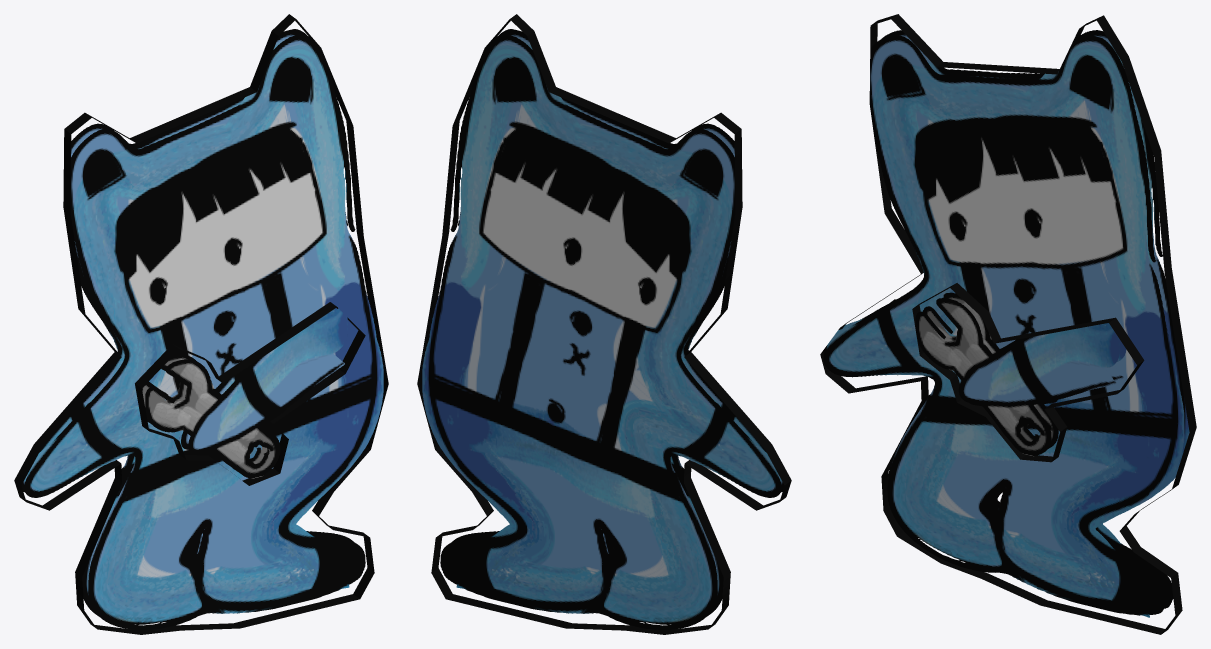
File: PlayerFixing.fbx
3 renders of one model, left to right at view 1: azimuth 30°, elevation 25°; view 2: azimuth 150°, elevation 25°; view 3: azimuth 330°, elevation 25°, orthographic.
Visible parts, largest first — view 1: PlayerFixingBody_MDL, PlayerFixingHand_MDL; view 2: PlayerFixingBody_MDL; view 3: PlayerFixingBody_MDL, PlayerFixingHand_MDL.
Part boxes in pixels (bbox=[...]): PlayerFixingBody_MDL: bbox=[14, 14, 388, 634]; PlayerFixingHand_MDL: bbox=[135, 302, 365, 485]; PlayerFixingBody_MDL: bbox=[417, 14, 791, 634]; PlayerFixingBody_MDL: bbox=[820, 14, 1196, 634]; PlayerFixingHand_MDL: bbox=[912, 283, 1144, 462].
Bounding box in the file's own units: 119 × 185 × 12.14.
Materials: 2 (1 with a texture image).
